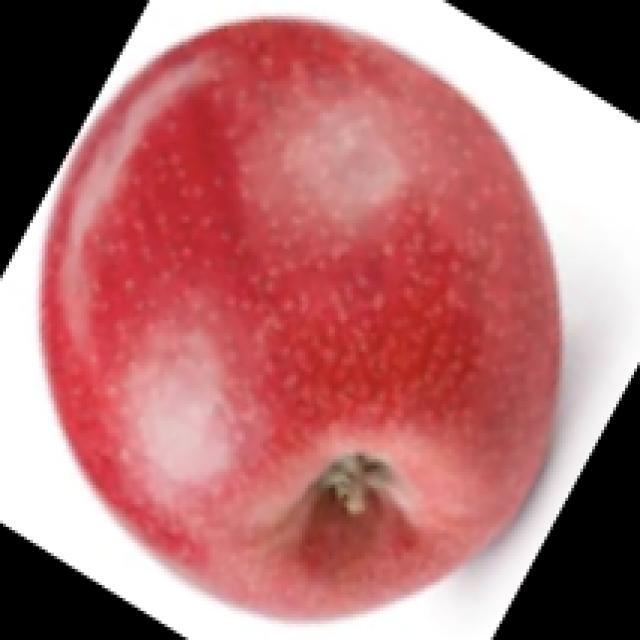Fresh Apple: (46, 12, 576, 610)
